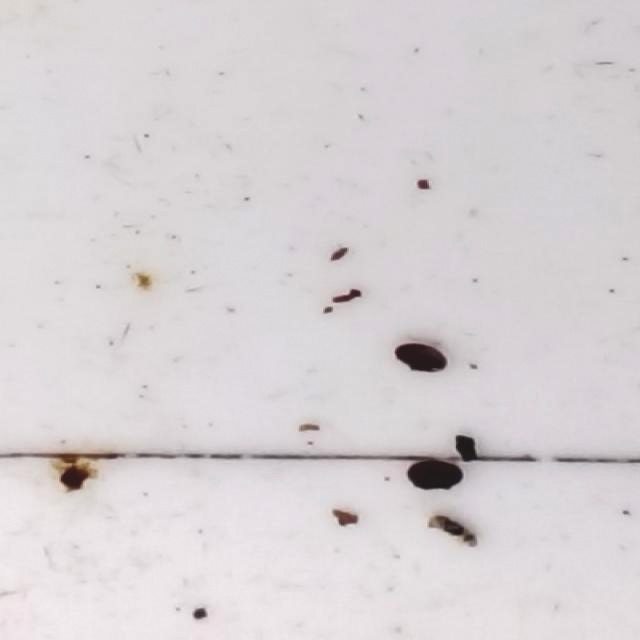varroa: (406, 460, 463, 491), (394, 340, 445, 372)
